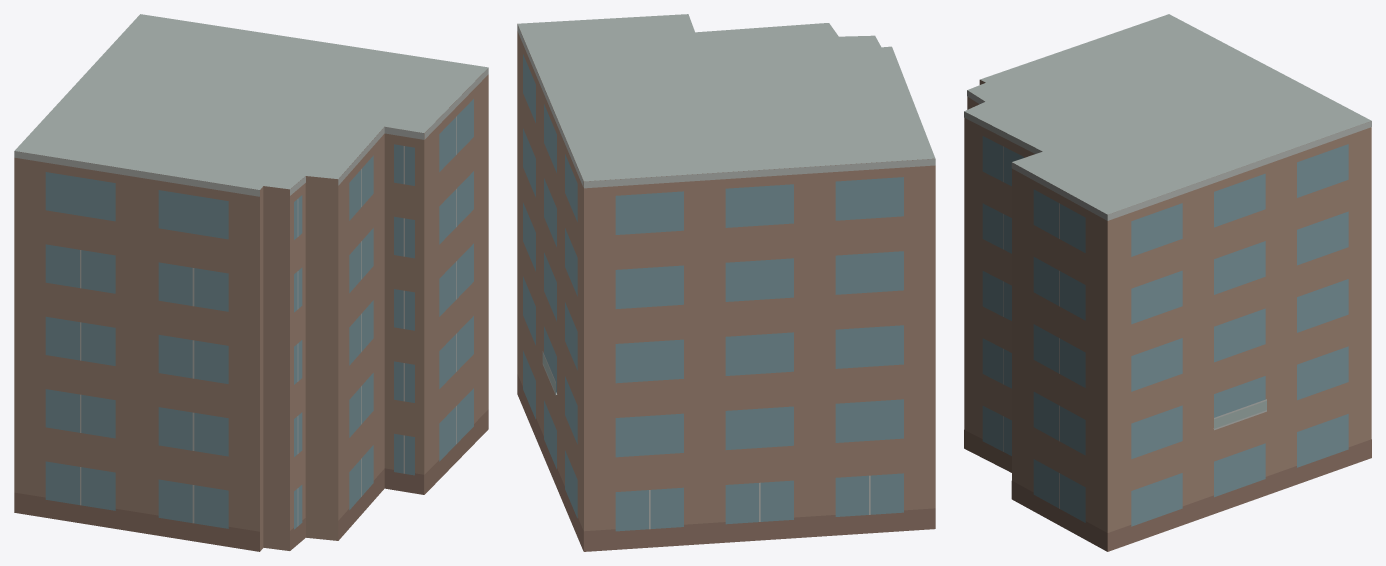
File: survey-upis-33009545.glb
3 renders of one model, left to right at view 1: azimuth 30°, elevation 25°; view 2: azimuth 150°, elevation 25°; view 3: azimuth 270°, elevation 25°, orthographic. The views are drawn at different scales.
Parts seen in each view (by area): view 1: survey-upis-33009545.tmp; view 2: survey-upis-33009545.tmp; view 3: survey-upis-33009545.tmp.
Boxes of the visible parts, x1,y1,x2,y2 form: survey-upis-33009545.tmp: (14,14,488,551); survey-upis-33009545.tmp: (517,14,935,551); survey-upis-33009545.tmp: (964,14,1371,551).
Bounding box in the file's own units: 16.73 × 13.1 × 14.36.
